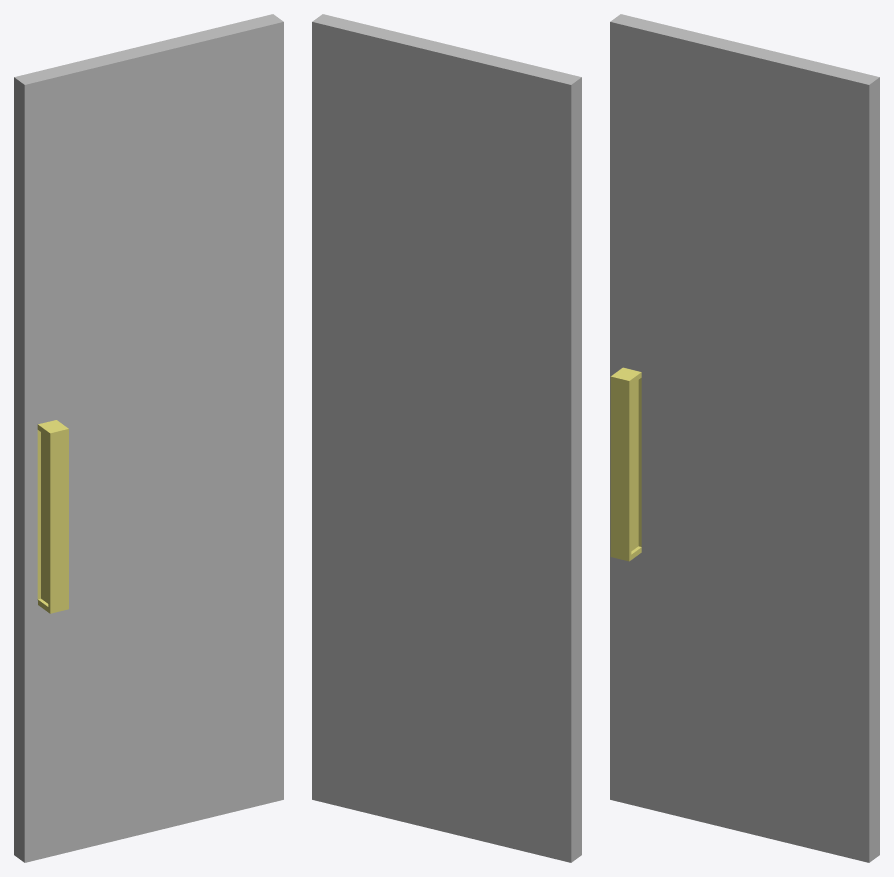
File: Itr_Wardrobe3_Door_Right_06.FBX
3 renders of one model, left to right at view 1: azimuth 30°, elevation 25°; view 2: azimuth 150°, elevation 25°; view 3: azimuth 330°, elevation 25°, orthographic.
Parts seen in each view (by area): view 1: Itr_Wardrobe3_Door_Right_06; view 2: Itr_Wardrobe3_Door_Right_06; view 3: Itr_Wardrobe3_Door_Right_06.
Boxes of the visible parts, x1,y1,x2,y2 form: Itr_Wardrobe3_Door_Right_06: [14, 14, 283, 862]; Itr_Wardrobe3_Door_Right_06: [312, 14, 581, 862]; Itr_Wardrobe3_Door_Right_06: [610, 14, 879, 862].
Size of the model in its own units: 20.07 by 57.59 by 3.1.
